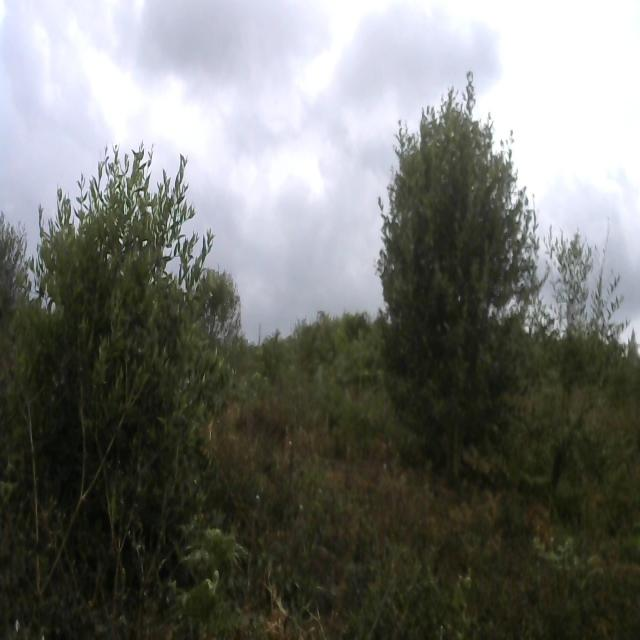Olea europea -africana-: (32, 156, 224, 547), (379, 66, 541, 481)
